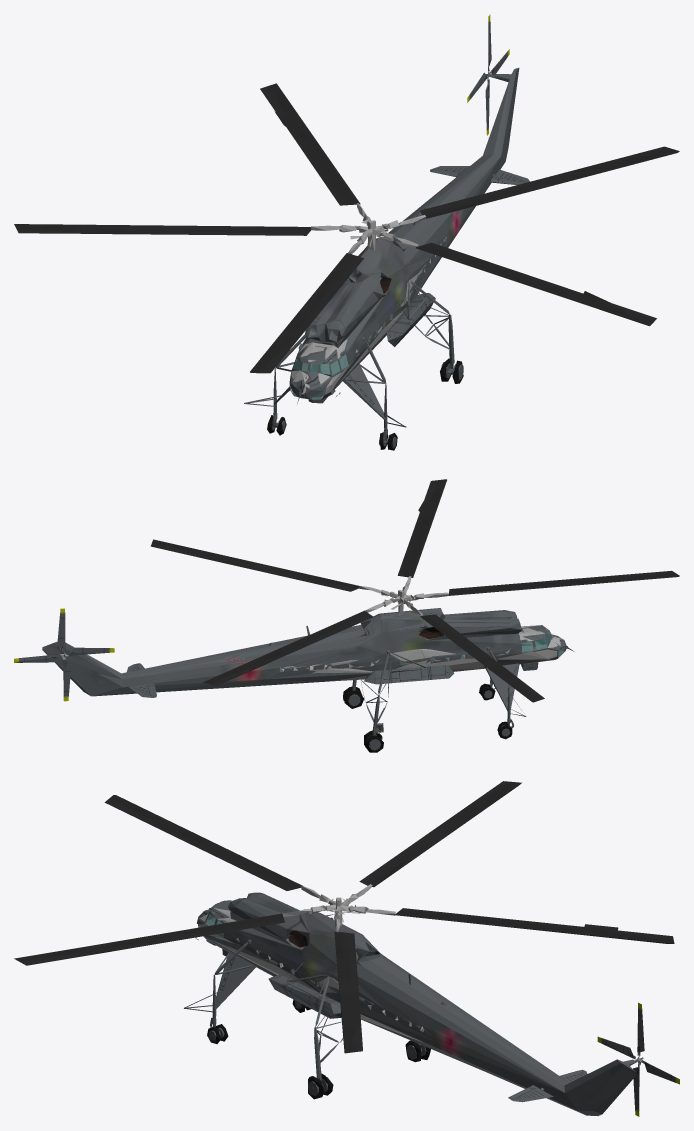
3 renders of one model, top to bottom at view 1: azimuth 30°, elevation 25°; view 2: azimuth 150°, elevation 25°; view 3: azimuth 270°, elevation 25°, orthographic. The views are drawn at different scales.
Parts seen in each view (by area): view 1: Line___-FACES, Line39-FACES, Cylinder62-FACES, Cylinder61-FACES, OilTank03-FACES, Cylinder22-FACES, Line09-FACES, Cylinder99-FACES, Line46-FACES, Object01-FACES; view 2: Line___-FACES, Line39-FACES, Cylinder62-FACES, Cylinder61-FACES, Cylinder99-FACES, OilTank03-FACES, Line09-FACES, Cylinder05-FACES; view 3: Line___-FACES, Line39-FACES, Cylinder62-FACES, Cylinder61-FACES, OilTank03-FACES, Cylinder99-FACES, Cylinder22-FACES, Line09-FACES, Line46-FACES.
Boxes of the visible parts, x1=… form: Line___-FACES: x1=289, y1=67, x2=519, y2=399; Line39-FACES: x1=14, y1=83, x2=679, y2=373; Cylinder62-FACES: x1=289, y1=71, x2=491, y2=399; Cylinder61-FACES: x1=244, y1=74, x2=511, y2=447; OilTank03-FACES: x1=386, y1=293, x2=435, y2=346; Cylinder22-FACES: x1=343, y1=364, x2=385, y2=420; Line09-FACES: x1=267, y1=358, x2=463, y2=450; Cylinder99-FACES: x1=467, y1=14, x2=509, y2=135; Line46-FACES: x1=430, y1=166, x2=529, y2=184; Object01-FACES: x1=292, y1=237, x2=446, y2=399; Line___-FACES: x1=42, y1=608, x2=566, y2=696; Line39-FACES: x1=150, y1=479, x2=679, y2=702; Cylinder62-FACES: x1=60, y1=576, x2=566, y2=681; Cylinder61-FACES: x1=57, y1=625, x2=574, y2=750; Cylinder99-FACES: x1=14, y1=608, x2=114, y2=701; OilTank03-FACES: x1=364, y1=665, x2=454, y2=684; Line09-FACES: x1=343, y1=683, x2=512, y2=752; Cylinder05-FACES: x1=485, y1=663, x2=519, y2=711; Line___-FACES: x1=197, y1=892, x2=636, y2=1115; Line39-FACES: x1=14, y1=781, x2=674, y2=1053; Cylinder62-FACES: x1=198, y1=884, x2=643, y2=1065; Cylinder61-FACES: x1=184, y1=908, x2=643, y2=1095; OilTank03-FACES: x1=268, y1=974, x2=341, y2=1018; Cylinder99-FACES: x1=597, y1=1002, x2=679, y2=1116; Cylinder22-FACES: x1=215, y1=951, x2=255, y2=1009; Line09-FACES: x1=207, y1=999, x2=430, y2=1099; Line46-FACES: x1=508, y1=1069, x2=587, y2=1102.
Bounding box in the file's own units: 32.67 × 10.52 × 33.49.
Materials: 17 (11 with a texture image).
